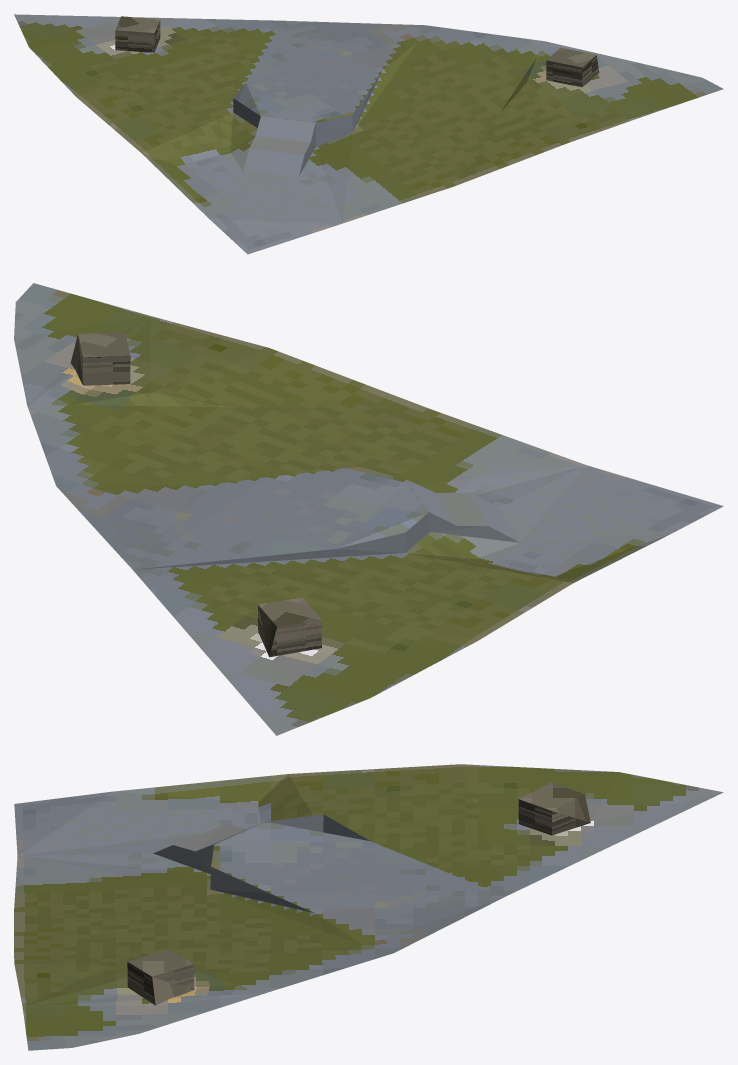
Rendered from lodpark01_law03.obj.
3 views of the same model, one above another, from view 1: azimuth 30°, elevation 25°; view 2: azimuth 150°, elevation 25°; view 3: azimuth 270°, elevation 25° (orthographic). The views are drawn at different scales.
Parts seen in each view (by area): view 1: LODPark01_LAw03; view 2: LODPark01_LAw03; view 3: LODPark01_LAw03.
Part boxes in pixels (<box>): LODPark01_LAw03: <box>14,14,723,254</box>; LODPark01_LAw03: <box>14,283,723,735</box>; LODPark01_LAw03: <box>14,764,723,1050</box>.
Bounding box in the file's own units: 88.99 × 11.02 × 87.7.
2 materials, 2 textured.
